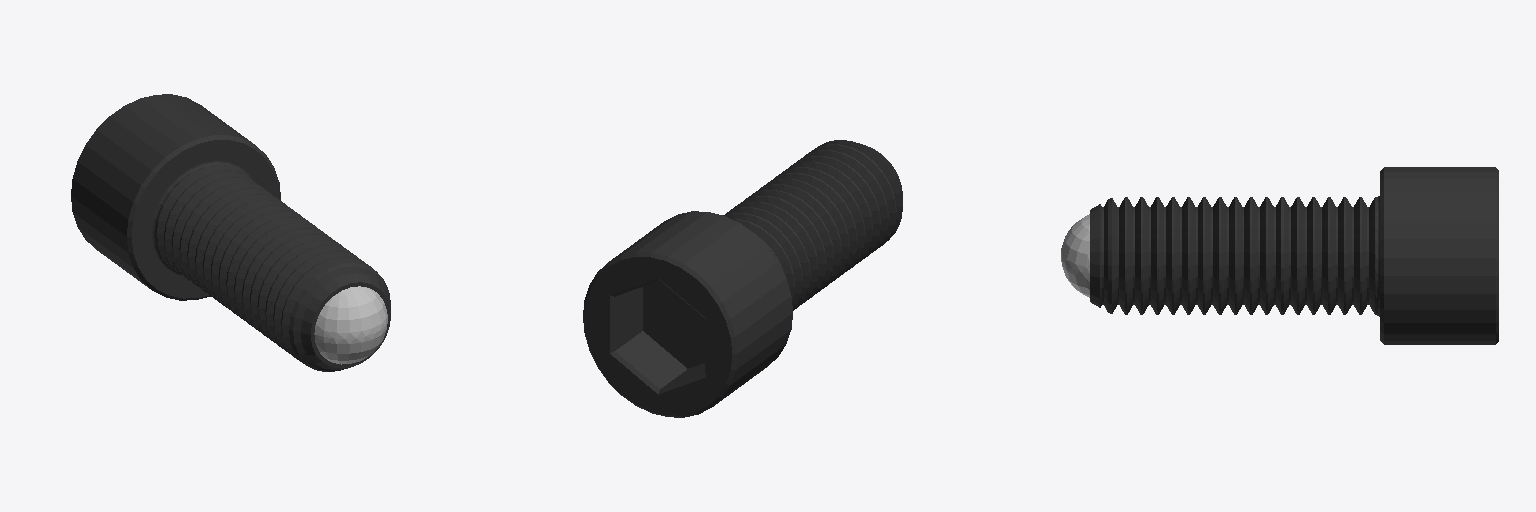
File: bcr-16x40.obj
The picture shows the model from 3 angles: view 1: azimuth 30°, elevation 25°; view 2: azimuth 150°, elevation 25°; view 3: azimuth 270°, elevation 25°; orthographic projection.
Visible parts, largest first — view 1: bcr-16x40_1; view 2: bcr-16x40_1; view 3: bcr-16x40_1.
Part boxes in pixels (bbox=[...]): bcr-16x40_1: bbox=[71, 94, 390, 371]; bcr-16x40_1: bbox=[583, 140, 902, 417]; bcr-16x40_1: bbox=[1061, 167, 1498, 344].
Bounding box in the file's own units: 24 × 23.87 × 59.